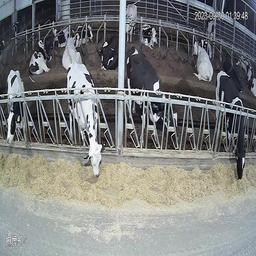cow: (125, 42, 182, 152), (64, 64, 106, 180), (214, 68, 247, 182), (6, 68, 25, 148), (28, 32, 56, 78), (191, 38, 213, 81), (59, 33, 84, 69), (100, 29, 118, 70), (125, 1, 139, 41), (76, 22, 96, 45), (55, 25, 75, 47), (141, 25, 159, 49), (206, 15, 218, 45)
